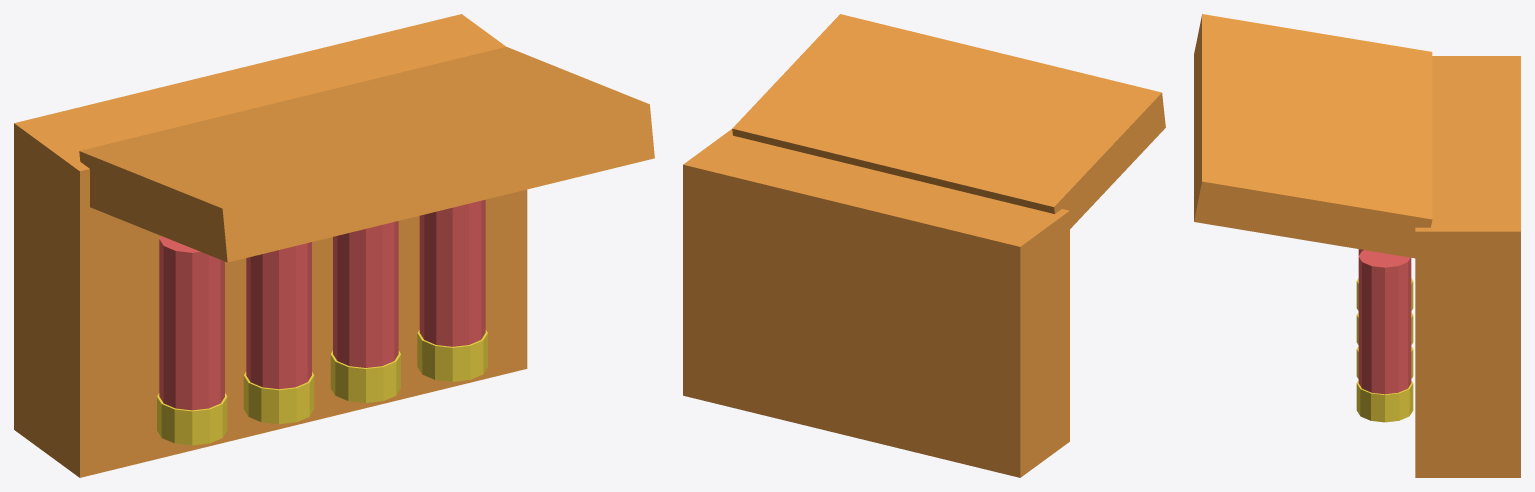
The model's file is 27_ammo_case_orange_open.glb.
3 renders of one model, left to right at view 1: azimuth 30°, elevation 25°; view 2: azimuth 150°, elevation 25°; view 3: azimuth 270°, elevation 25°, orthographic. The views are drawn at different scales.
Parts seen in each view (by area): view 1: part_1, part_2, part_4, part_10, part_8, part_6, part_7, part_5, part_11, part_9; view 2: part_1, part_2; view 3: part_2, part_1, part_10, part_11.
Part boxes in pixels (x1,y1,x2,y2): part_1: (14,14,527,477); part_2: (79,47,654,262); part_4: (159,236,224,410); part_10: (419,199,485,346); part_8: (333,221,398,367); part_6: (246,242,311,389); part_7: (243,372,314,424); part_5: (157,393,227,445); part_11: (417,330,487,381); part_9: (330,351,400,402); part_1: (683,129,1069,477); part_2: (732,14,1165,228); part_2: (1194,14,1432,258); part_1: (1415,56,1520,477); part_10: (1358,250,1411,394); part_11: (1356,380,1413,422).
Size of the model in its own units: 1.1 by 0.8545 by 0.8657.
